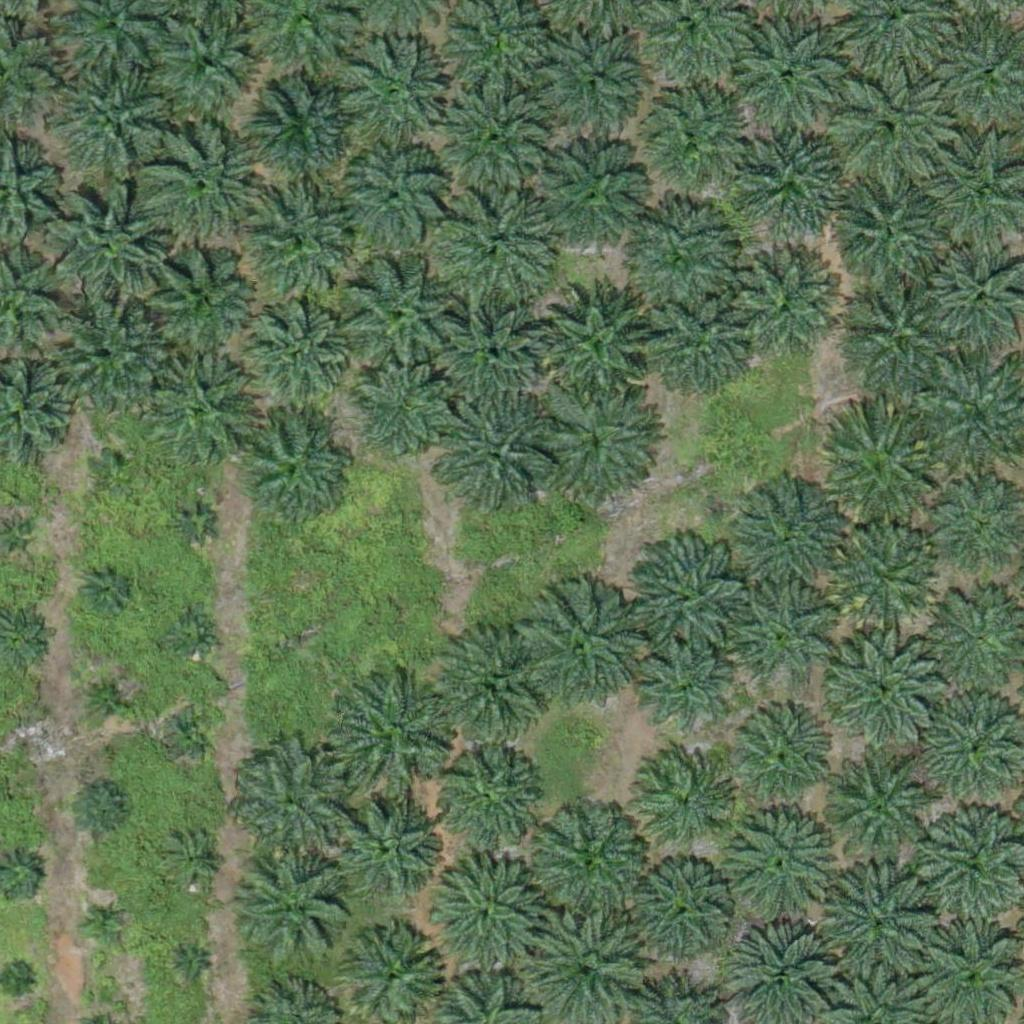Kelapa_Sawit: (50, 54, 175, 180), (45, 189, 170, 315), (45, 304, 170, 430), (142, 119, 267, 245), (132, 232, 257, 358), (328, 36, 453, 162), (333, 256, 458, 382), (438, 76, 563, 202), (437, 184, 562, 310), (433, 392, 558, 518), (532, 277, 657, 403), (536, 381, 661, 507), (825, 66, 950, 192), (623, 535, 748, 661), (517, 588, 642, 714), (334, 673, 459, 799), (526, 796, 651, 922), (624, 77, 749, 202), (613, 195, 738, 320), (816, 410, 941, 535), (234, 293, 347, 407), (246, 186, 359, 300), (347, 355, 460, 469), (436, 627, 549, 741), (238, 412, 351, 525), (249, 74, 362, 187), (533, 140, 646, 253), (534, 26, 647, 139), (639, 285, 752, 398), (830, 629, 943, 742), (827, 756, 940, 869), (821, 869, 934, 982), (720, 803, 833, 916), (426, 854, 539, 967), (145, 360, 257, 473), (339, 144, 451, 257), (431, 300, 543, 413), (730, 248, 842, 361), (737, 123, 849, 236), (729, 20, 841, 133), (834, 180, 946, 293), (841, 278, 953, 391), (235, 746, 347, 859), (244, 852, 356, 965), (834, 524, 934, 625), (744, 486, 844, 587), (732, 584, 832, 685), (728, 705, 828, 806), (634, 637, 734, 738), (337, 796, 437, 897), (632, 752, 732, 852), (630, 861, 730, 961), (436, 745, 536, 845), (68, 778, 131, 841), (167, 835, 217, 886), (83, 670, 133, 721), (81, 561, 131, 611), (167, 708, 217, 758), (170, 498, 220, 548), (166, 609, 216, 659), (89, 444, 139, 494), (78, 898, 128, 948), (13, 724, 38, 749), (179, 953, 204, 978), (2, 967, 27, 992)
